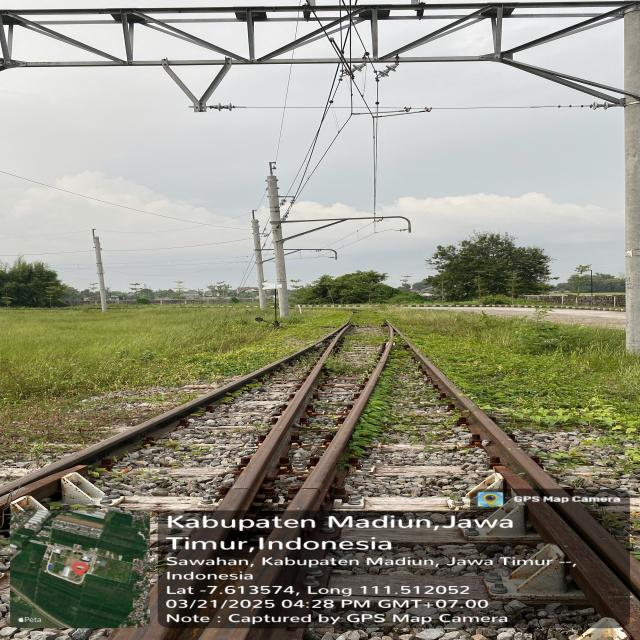rail-detection: (0, 321, 640, 640), (0, 323, 640, 640)
